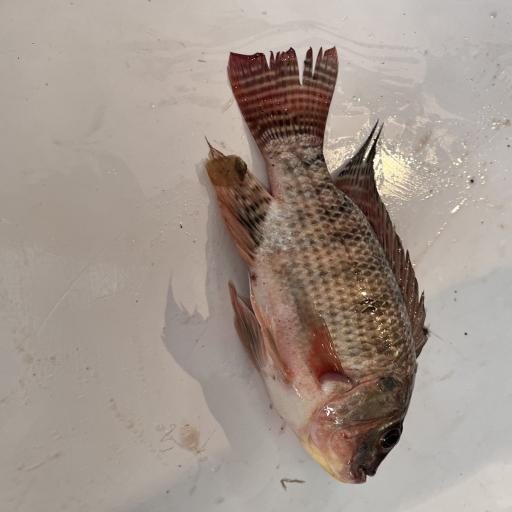Tilapia: (205, 45, 431, 485)
